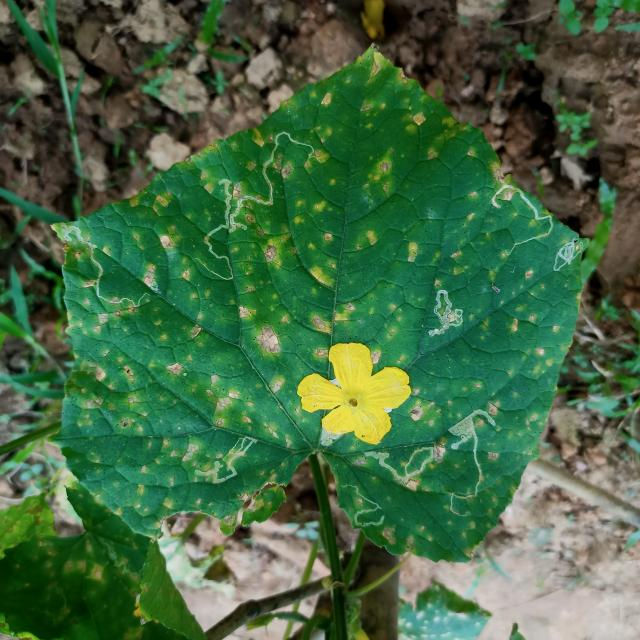disease_cucumber: (80, 63, 558, 537)
